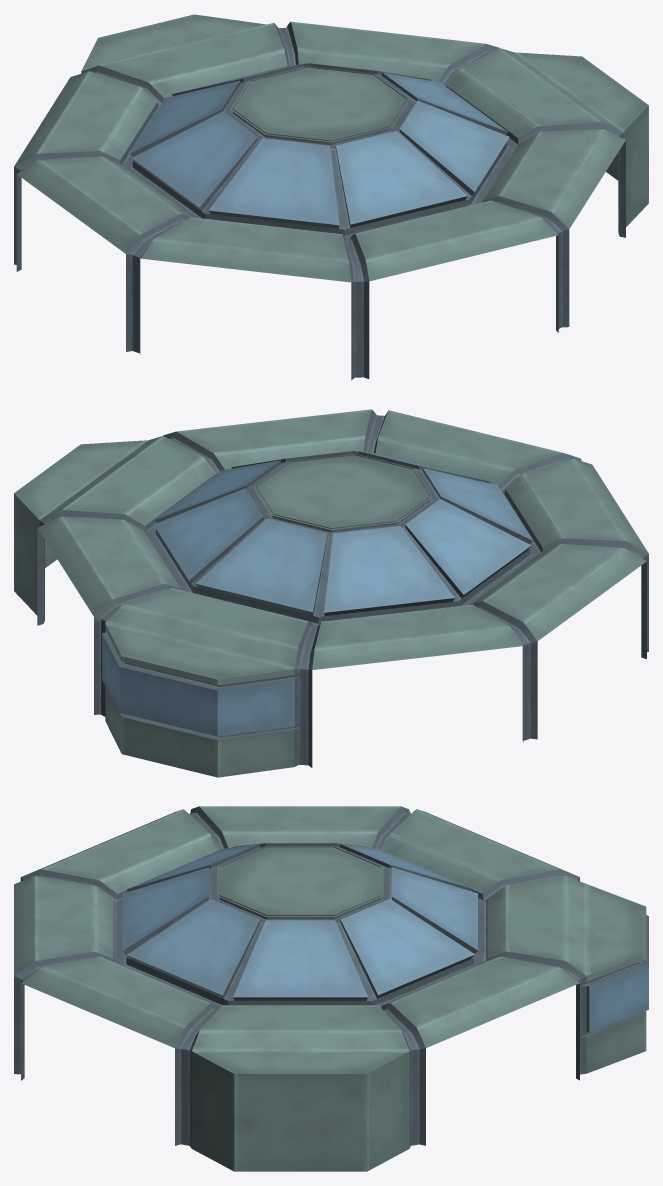
Rendered from OM_BridgeLayout.fbx.
3 renders of one model, top to bottom at view 1: azimuth 30°, elevation 25°; view 2: azimuth 150°, elevation 25°; view 3: azimuth 270°, elevation 25°, orthographic.
Visible parts, largest first — view 1: polySurface470, pCylinder106, polySurface471, polySurface478, polySurface472, polySurface477, polySurface473, polySurface476; view 2: polySurface470, pCylinder106, polySurface479, polySurface473, polySurface474, polySurface472, polySurface475, polySurface471, polySurface476; view 3: polySurface470, pCylinder106, polySurface476, polySurface475, polySurface477, polySurface478, polySurface474, polySurface479, polySurface473, polySurface471.
Boxes of the visible parts, x1,y1,x2,y2 form: polySurface470: [14, 14, 648, 380]; pCylinder106: [230, 66, 409, 142]; polySurface471: [208, 138, 339, 225]; polySurface478: [336, 131, 467, 224]; polySurface472: [132, 111, 257, 207]; polySurface477: [400, 100, 509, 191]; polySurface473: [130, 80, 239, 152]; polySurface476: [382, 72, 507, 131]; polySurface470: [14, 409, 648, 777]; pCylinder106: [253, 454, 432, 529]; polySurface479: [102, 634, 294, 736]; polySurface473: [324, 526, 454, 612]; polySurface474: [196, 518, 327, 612]; polySurface472: [405, 499, 531, 594]; polySurface475: [153, 488, 263, 580]; polySurface471: [423, 468, 532, 540]; polySurface476: [155, 460, 280, 519]; polySurface470: [14, 806, 648, 1171]; pCylinder106: [217, 846, 383, 916]; polySurface476: [233, 920, 367, 997]; polySurface475: [340, 899, 474, 995]; polySurface477: [127, 899, 259, 995]; polySurface478: [122, 867, 208, 950]; polySurface474: [392, 867, 477, 950]; polySurface479: [589, 964, 648, 1032]; polySurface473: [341, 844, 471, 888]; polySurface471: [128, 844, 258, 888].
Bounding box in the file's own units: 1860 × 481 × 1885.
